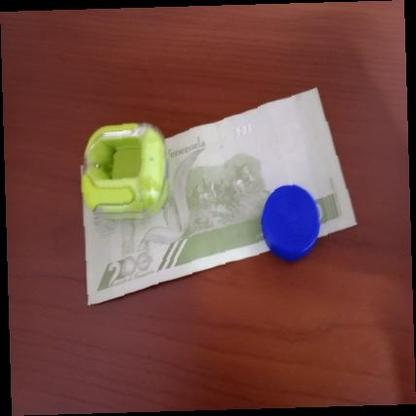fifty-back-vef: (81, 86, 359, 306)
